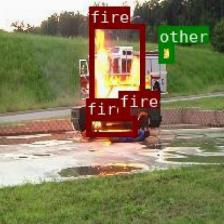fire: (88, 23, 144, 102), (86, 115, 136, 136), (118, 107, 129, 115)
